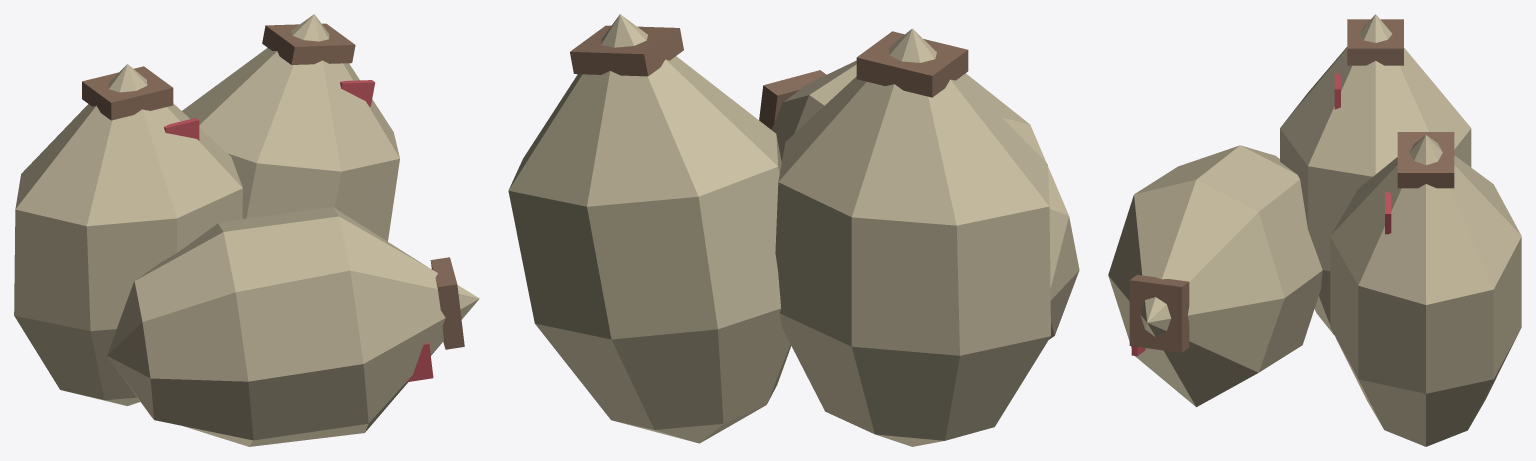
The model's file is rail_mail_bags.glb.
The picture shows the model from 3 angles, left to right: view 1: azimuth 30°, elevation 25°; view 2: azimuth 150°, elevation 25°; view 3: azimuth 270°, elevation 25°; orthographic projection. The views are drawn at different scales.
Size of the model in its own units: 0.7193 by 0.6042 by 0.6572.
